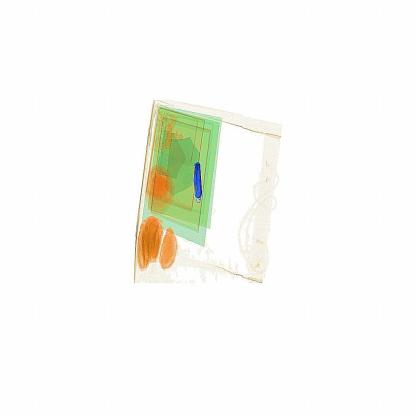knife: (185, 160, 210, 204)
